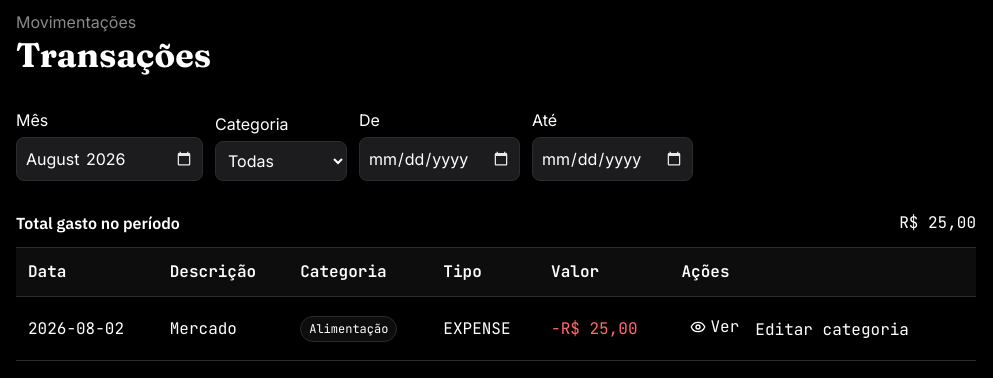
Test: TransactionsPage › rejects an invalid custom date range in Portuguese without requesting a total
The width and height of the screenshot is (993, 378).
Expected: the table is shown, x1=16 y1=248 x2=976 y2=361
Type "2026-08-20" into the date field labelled "De".
click(440, 159); type("2026-08-20")  # box x1=359 y1=137 x2=520 y2=181
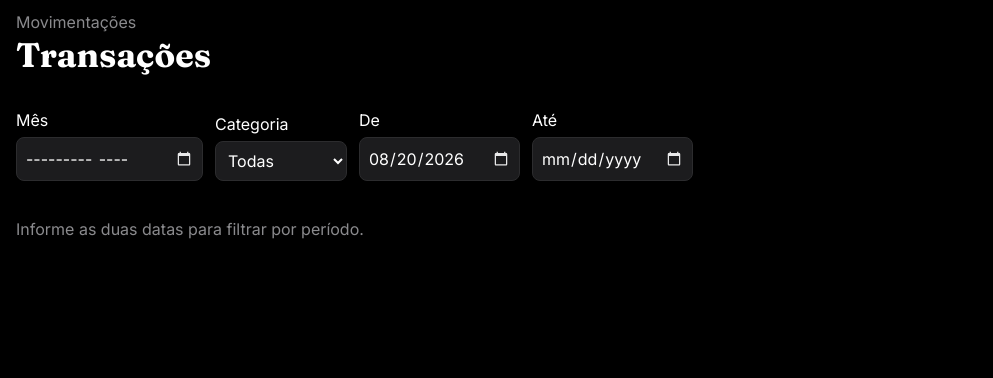
Type "2026-08-01" into the date field labelled "Até".
click(612, 159); type("2026-08-01")  # box x1=532 y1=137 x2=693 y2=181
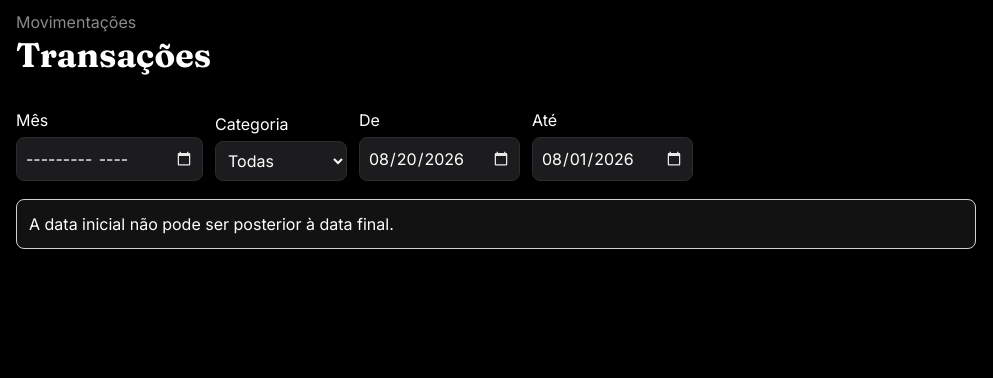
Result: the message reads "A data inicial não pode ser posterior à data final." at x1=29 y1=214 x2=394 y2=234
